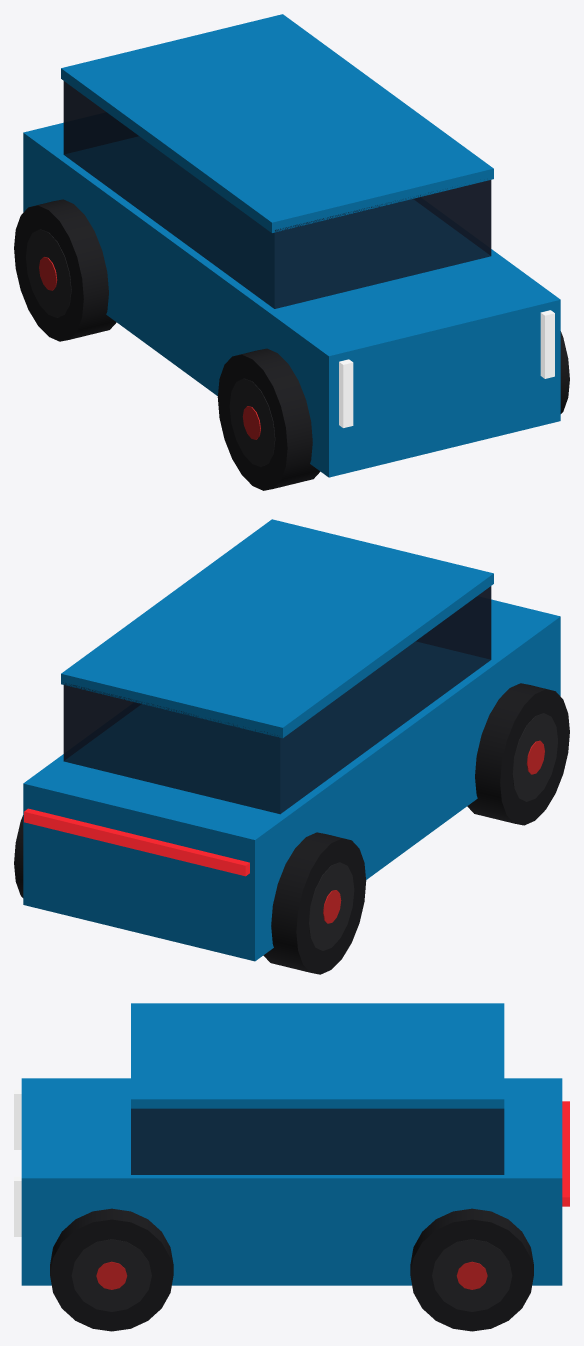
File: kia_ev9.glb
3 renders of one model, top to bottom at view 1: azimuth 30°, elevation 25°; view 2: azimuth 150°, elevation 25°; view 3: azimuth 270°, elevation 25°, orthographic. The views are drawn at different scales.
Size of the model in its own units: 0.523 by 0.4352 by 1.
